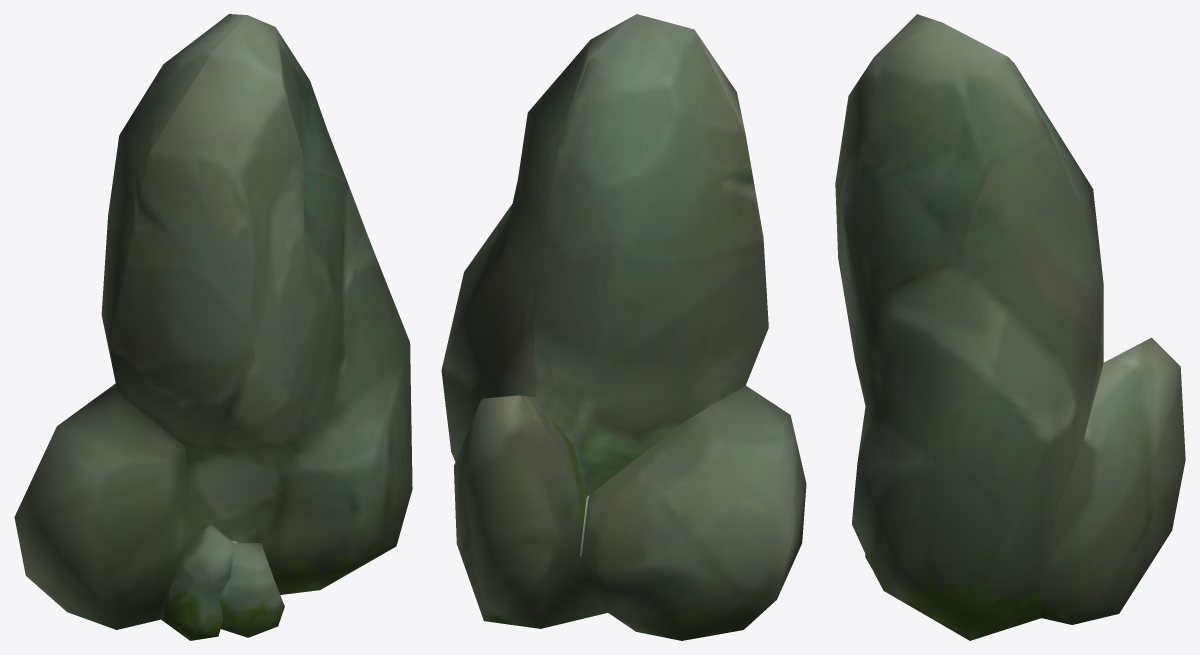
Rendered from ShiTou_04.FBX.
3 views of the same model, side by side, from view 1: azimuth 30°, elevation 25°; view 2: azimuth 150°, elevation 25°; view 3: azimuth 270°, elevation 25° (orthographic). The views are drawn at different scales.
Parts seen in each view (by area): view 1: Object022; view 2: Object022; view 3: Object022.
Boxes of the visible parts, x1=… form: Object022: x1=14, y1=14, x2=412, y2=640; Object022: x1=441, y1=14, x2=806, y2=640; Object022: x1=835, y1=14, x2=1185, y2=640.
Size of the model in its own units: 31.89 by 27.57 by 48.93.
